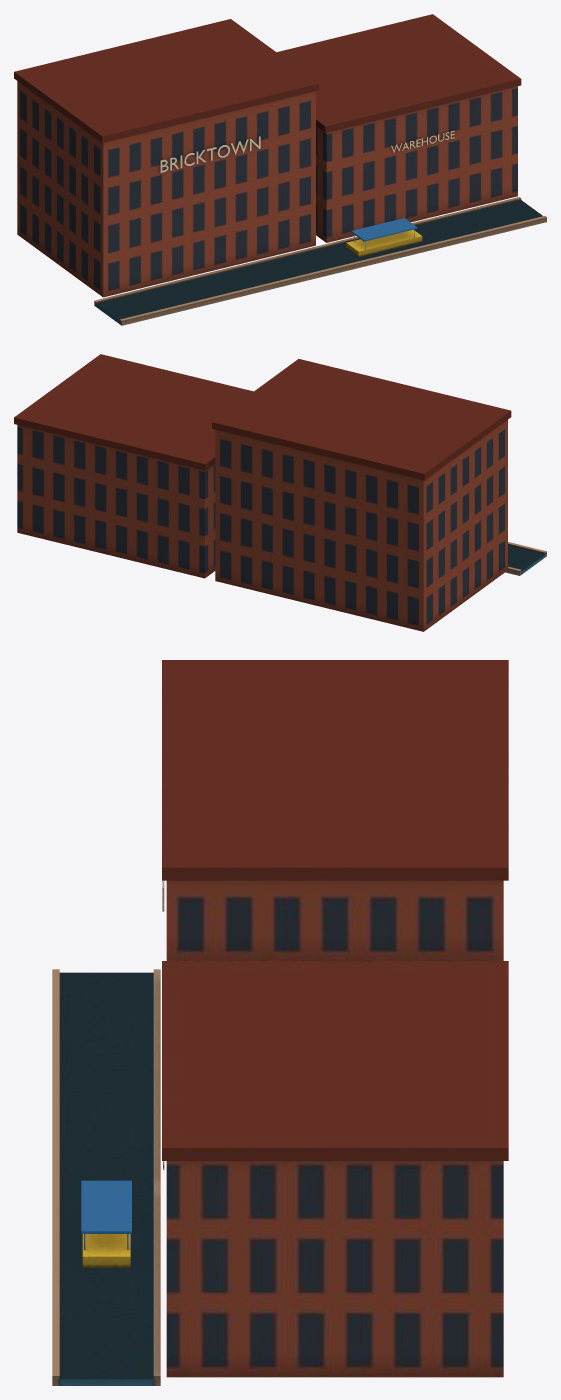
The model's file is bricktown.glb.
3 renders of one model, top to bottom at view 1: azimuth 30°, elevation 25°; view 2: azimuth 150°, elevation 25°; view 3: azimuth 270°, elevation 25°, orthographic. The views are drawn at different scales.
Parts seen in each view (by area): view 1: bricktown; view 2: bricktown; view 3: bricktown.
Boxes of the visible parts, x1,y1,x2,y2 form: bricktown: (14,14,546,325); bricktown: (14,354,546,631); bricktown: (52,660,508,1385).
Size of the model in its own units: 40.2 by 15 by 18.95.
Materials: 1 (1 with a texture image).
